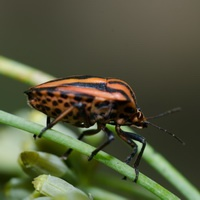insect: (25, 75, 148, 181)
